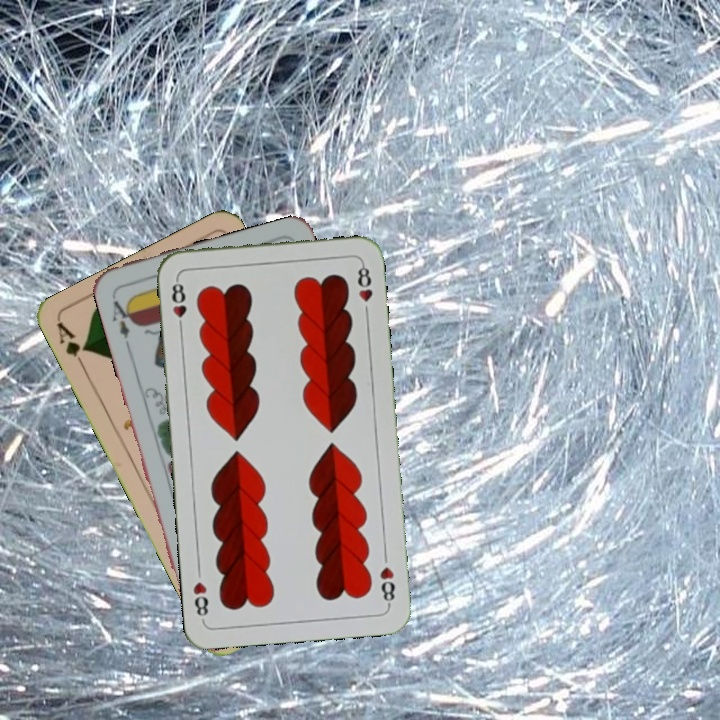EA: (108, 291, 137, 341)
GA: (53, 319, 90, 374)
H8: (167, 275, 189, 334), (375, 562, 398, 609)
